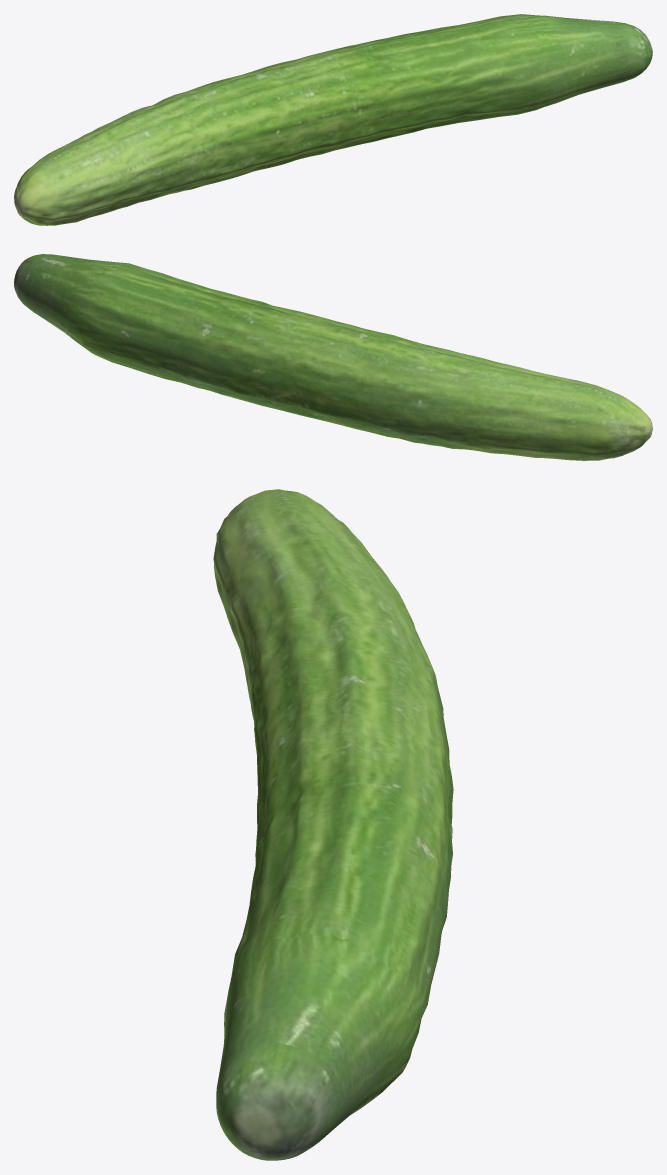
File: CucumberPeel.obj
The picture shows the model from 3 angles, top to bottom: view 1: azimuth 30°, elevation 25°; view 2: azimuth 150°, elevation 25°; view 3: azimuth 270°, elevation 25°; orthographic projection. The views are drawn at different scales.
Parts seen in each view (by area): view 1: CucumberPeel; view 2: CucumberPeel; view 3: CucumberPeel.
Boxes of the visible parts, x1=… form: CucumberPeel: x1=14, y1=14, x2=652, y2=225; CucumberPeel: x1=14, y1=254, x2=652, y2=460; CucumberPeel: x1=213, y1=489, x2=453, y2=1160.
Bounding box in the file's own units: 0.3314 × 0.0469 × 0.0548.
Materials: 1 (1 with a texture image).
